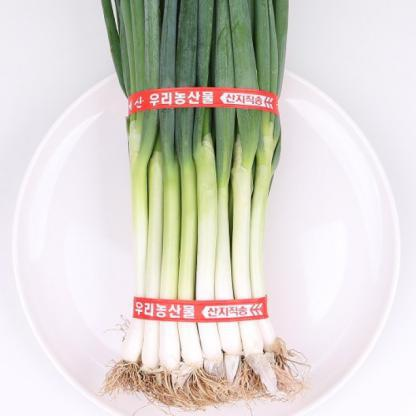green onion: (92, 0, 300, 401)
